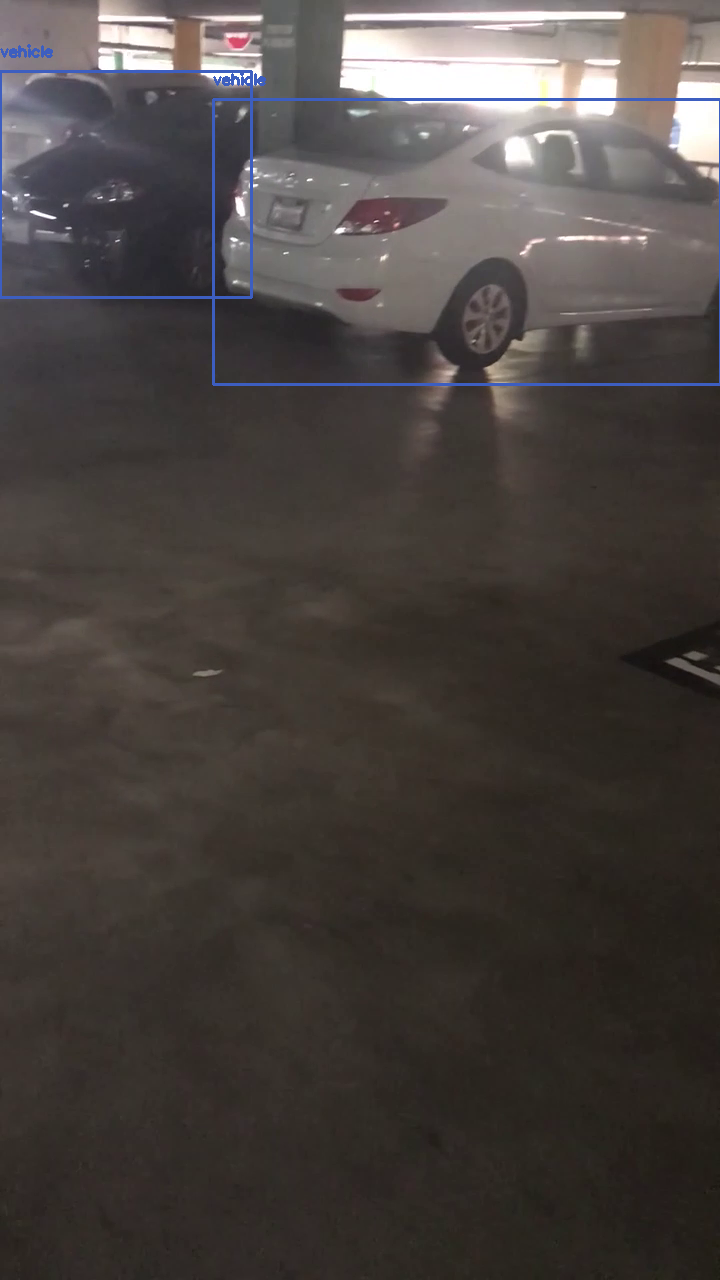vehicle: (213, 99, 720, 384), (0, 71, 251, 297)
